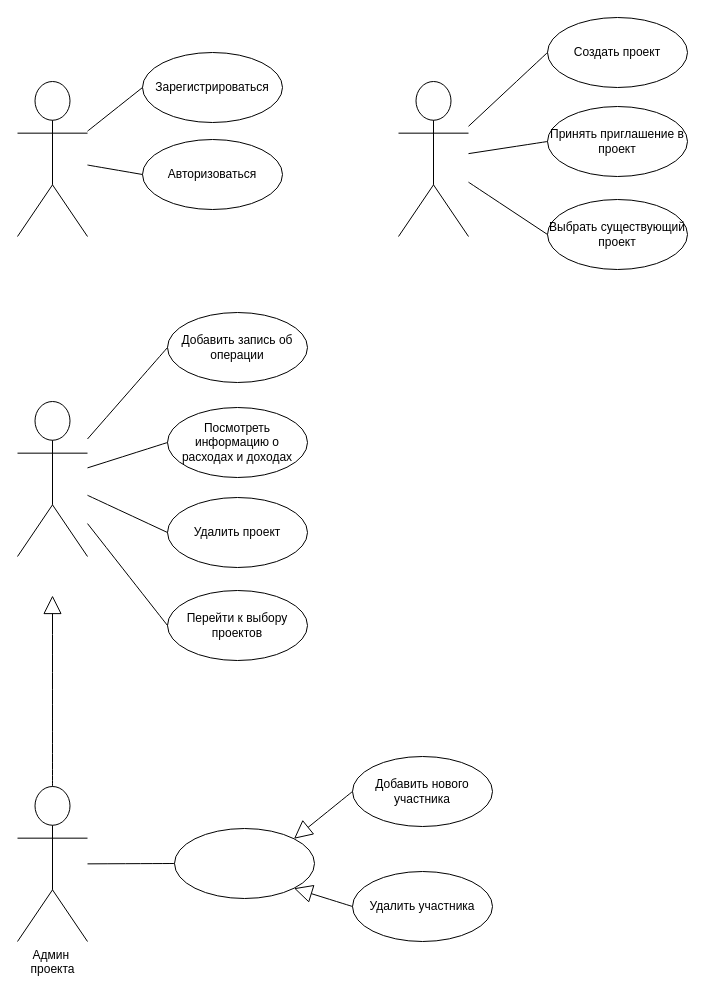
Some shapes in this 705 by 995 pixel diagram are drawn without their labels. The centre of each missing label's shape, as x and y in pixels:
Авторизованный пользователь: point 433,158
Гость: point 52,158
Изменить список участников проекта: point 244,863
Участник проекта: point 52,478
